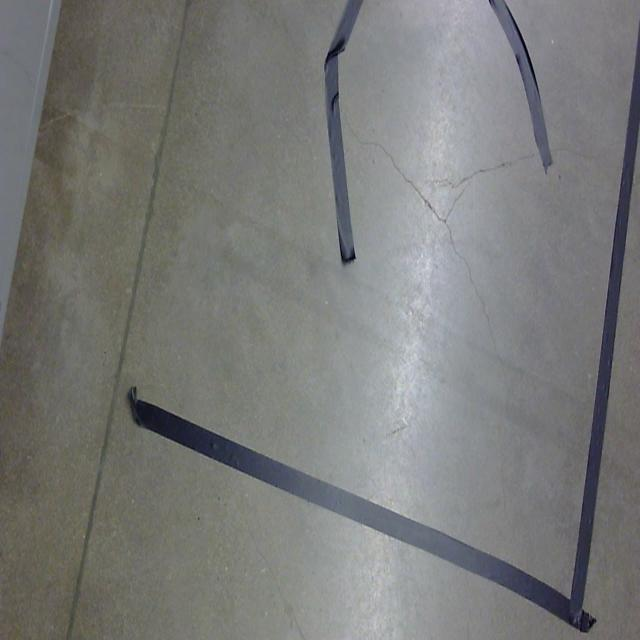tape: (119, 378, 599, 640), (565, 0, 640, 635), (317, 0, 373, 270), (484, 0, 556, 180)
